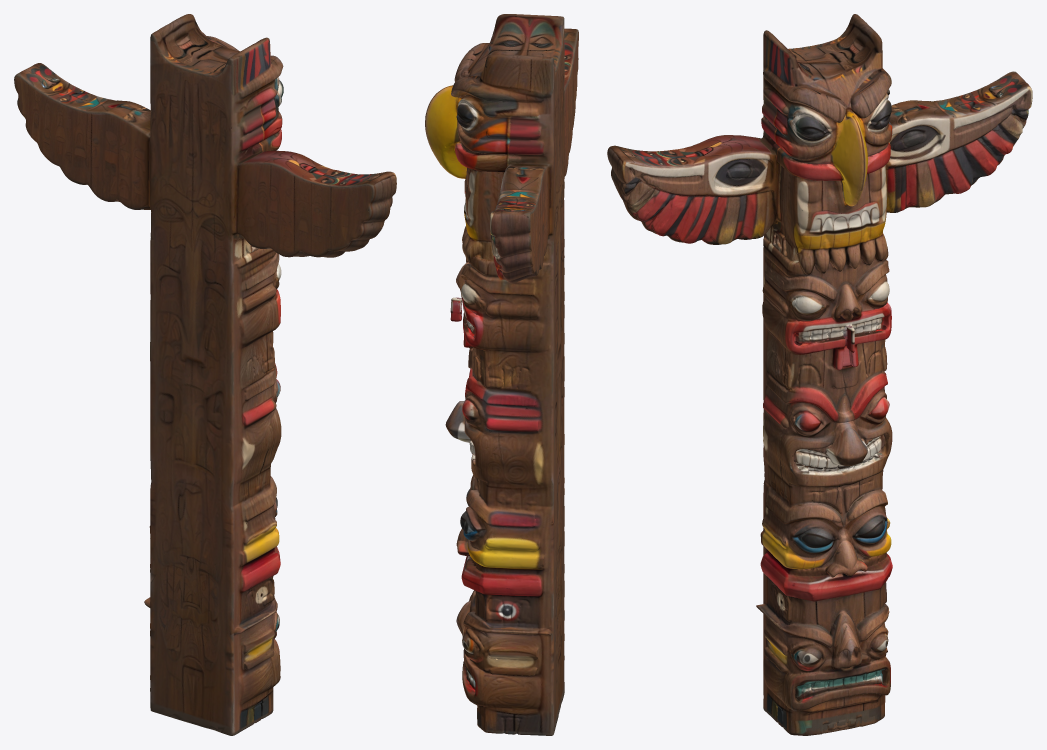
The model's file is eyes_of_the_skycaller_-_totem.glb.
3 views of the same model, side by side, from view 1: azimuth 30°, elevation 25°; view 2: azimuth 150°, elevation 25°; view 3: azimuth 270°, elevation 25° (orthographic).
Visible parts, largest first — view 1: Object_7, Object_4, Object_5, Object_6; view 2: Object_5, Object_7, Object_4, Object_6; view 3: Object_6, Object_5, Object_4, Object_7.
Part boxes in pixels (x1,y1,x2,y2): Object_7: (17,20,392,735); Object_4: (14,36,396,670); Object_5: (39,20,370,710); Object_6: (51,14,394,733); Object_5: (425,14,574,734); Object_7: (469,14,578,735); Object_4: (452,28,578,706); Object_6: (444,14,573,710); Object_6: (619,14,1031,727); Object_5: (633,17,1031,718); Object_4: (607,66,1032,695); Object_7: (607,14,1028,735).
Bounding box in the file's own units: 0.549 × 1.9 × 1.08.
1 material, 1 textured.
